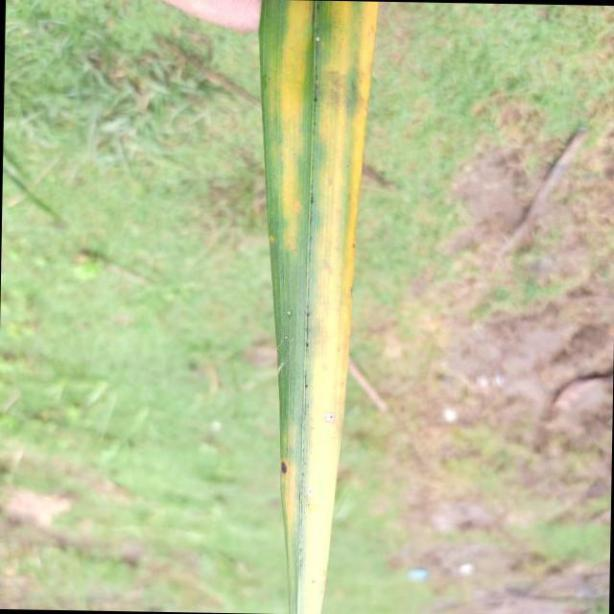Megnesium: (258, 0, 378, 614)
